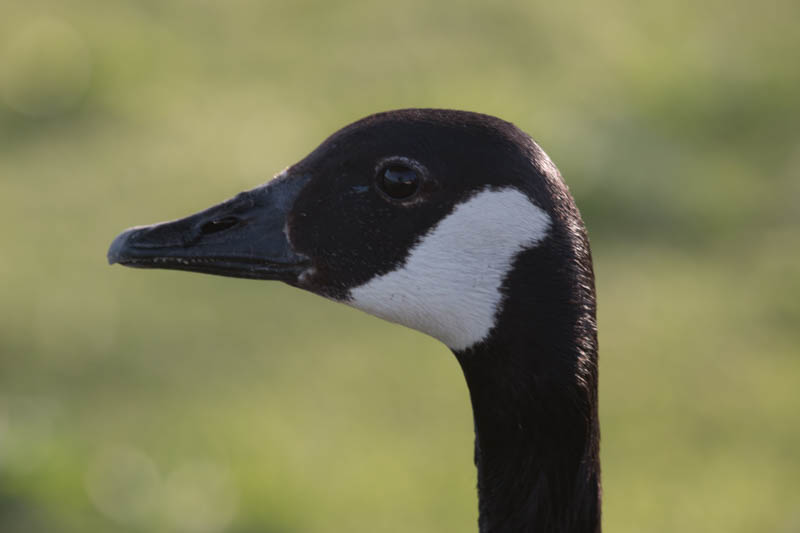goose-head: (106, 108, 598, 355)
